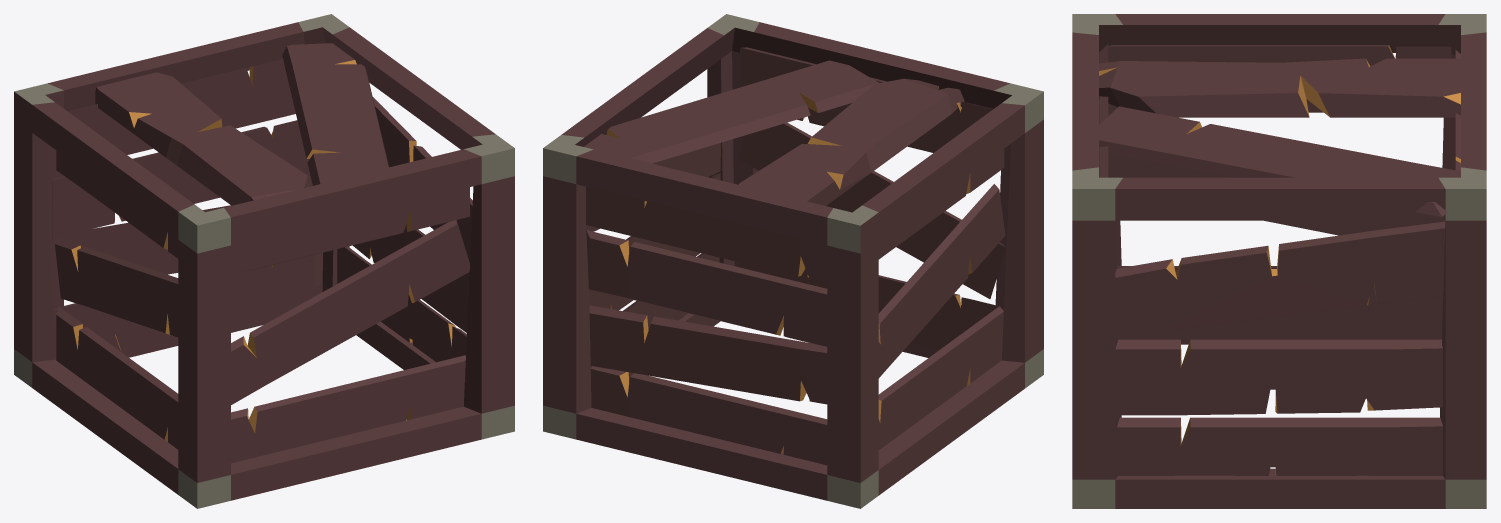
3 views of the same model, side by side, from view 1: azimuth 30°, elevation 25°; view 2: azimuth 150°, elevation 25°; view 3: azimuth 270°, elevation 25° (orthographic). The views are drawn at different scales.
Visible parts, largest first — view 1: Plane.051; view 2: Plane.051; view 3: Plane.051.
Boxes of the visible parts, x1,y1,x2,y2 form: Plane.051: [14, 14, 514, 508]; Plane.051: [543, 14, 1043, 508]; Plane.051: [1072, 14, 1486, 508].
Size of the model in its own units: 6.72 by 5.56 by 6.53.
Materials: 1 (1 with a texture image).
